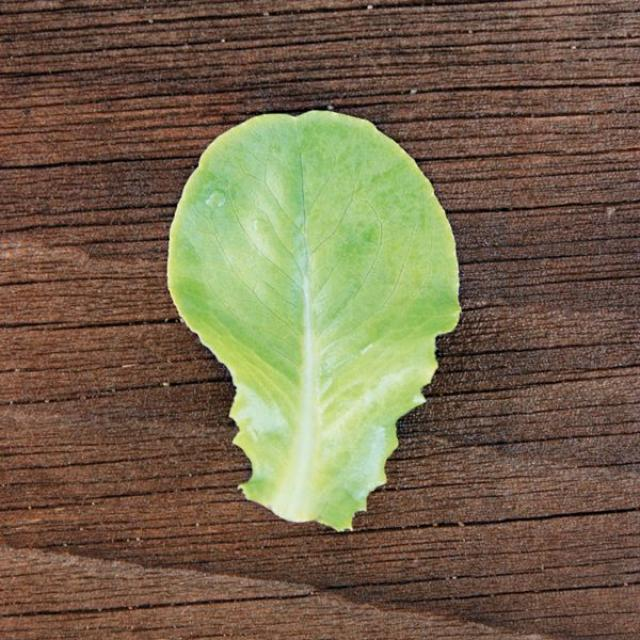lettuce: (164, 108, 462, 533)
